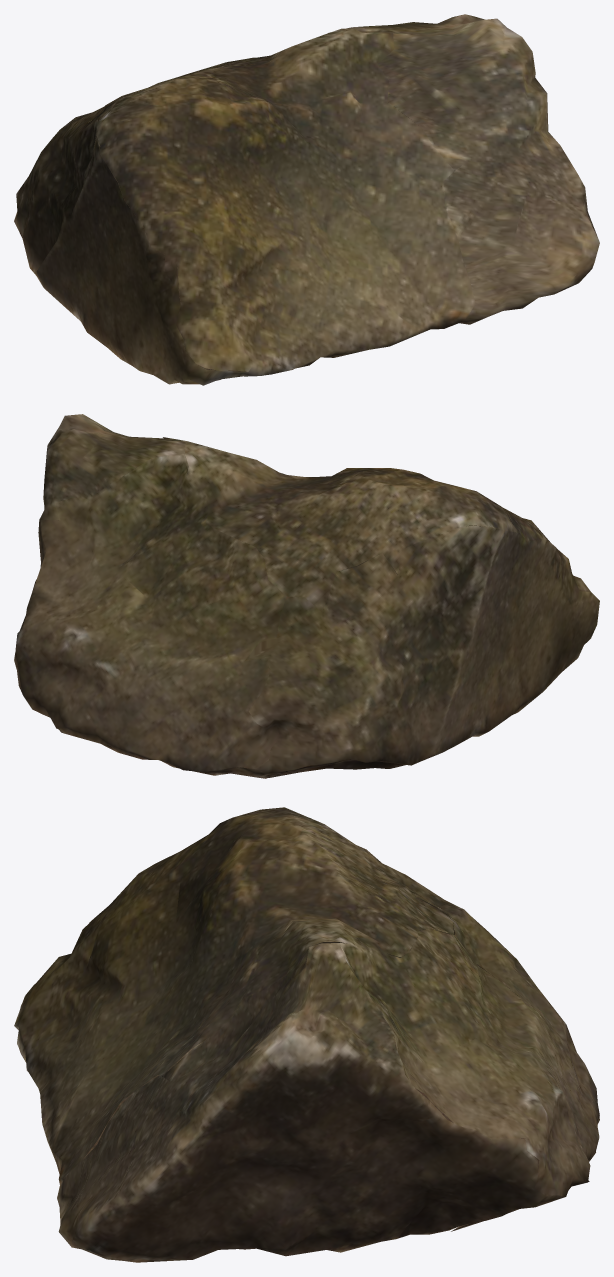
File: rock_moss_03_2k.glb
The picture shows the model from 3 angles, top to bottom: view 1: azimuth 30°, elevation 25°; view 2: azimuth 150°, elevation 25°; view 3: azimuth 270°, elevation 25°; orthographic projection. The views are drawn at different scales.
Parts seen in each view (by area): view 1: rock_moss_set_01_rock03; view 2: rock_moss_set_01_rock03; view 3: rock_moss_set_01_rock03.
Boxes of the visible parts, x1,y1,x2,y2 form: rock_moss_set_01_rock03: (14,14,599,385); rock_moss_set_01_rock03: (14,414,599,778); rock_moss_set_01_rock03: (14,807,599,1262).
Bounding box in the file's own units: 2.11 × 1.1 × 2.08.
1 material, 1 textured.
